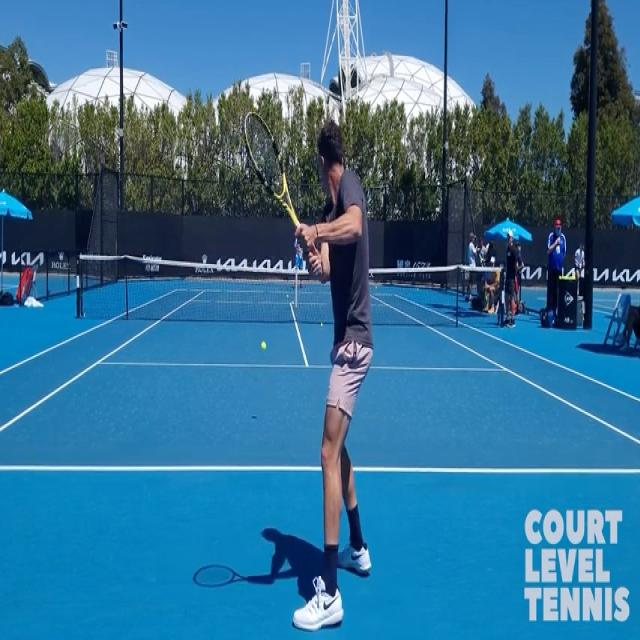backhand-ready: (235, 104, 400, 626)
